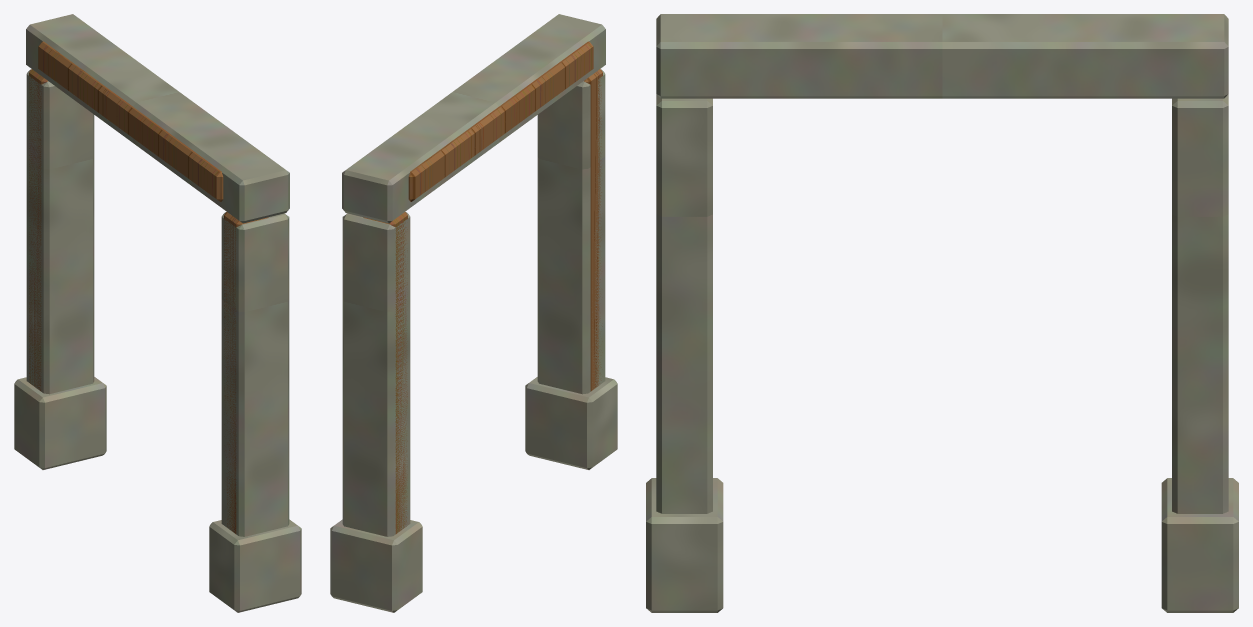
The model's file is SM_HH_V2_DoorFrame.fbx.
3 views of the same model, side by side, from view 1: azimuth 30°, elevation 25°; view 2: azimuth 150°, elevation 25°; view 3: azimuth 270°, elevation 25° (orthographic). The views are drawn at different scales.
Parts seen in each view (by area): view 1: HH_V2_DoorFrame; view 2: HH_V2_DoorFrame; view 3: HH_V2_DoorFrame.
Boxes of the visible parts, left/top/right/bottom form: HH_V2_DoorFrame: left=14, top=14, right=301, bottom=612; HH_V2_DoorFrame: left=330, top=14, right=617, bottom=612; HH_V2_DoorFrame: left=646, top=14, right=1238, bottom=612.
Bounding box in the file's own units: 2.3 × 0.4 × 2.42.
